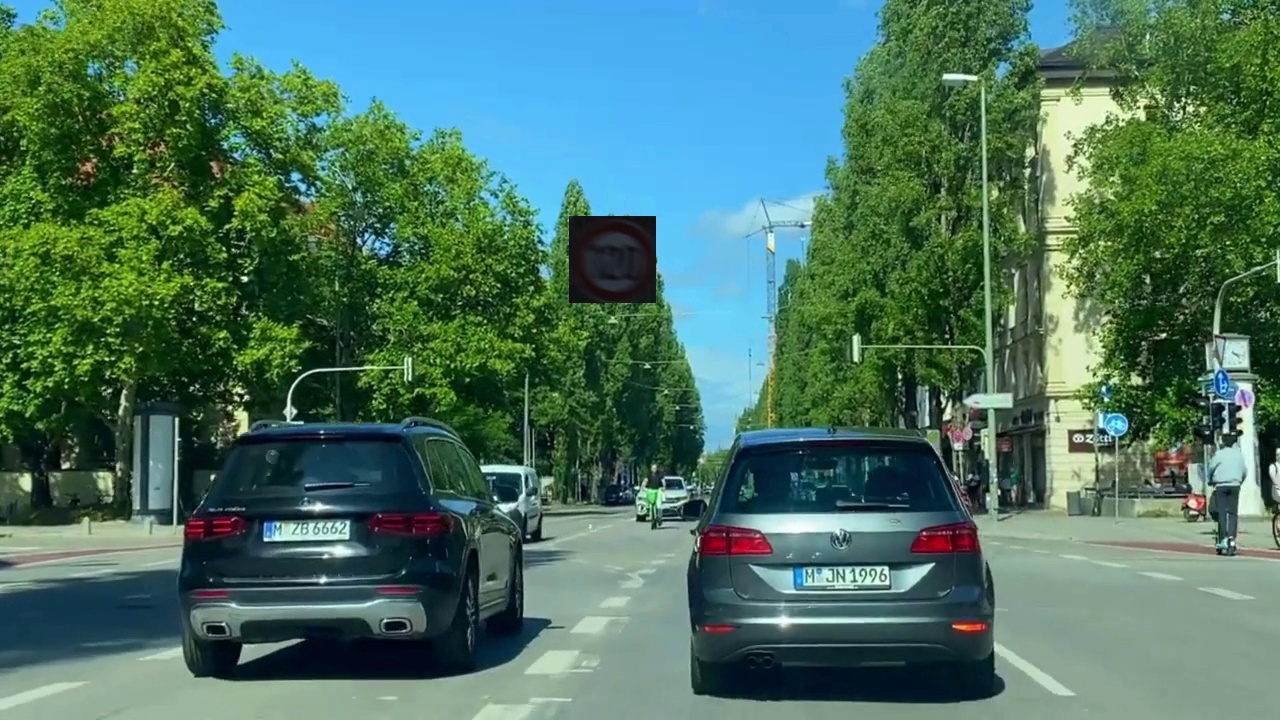Speed 120: (569, 216, 656, 303)
